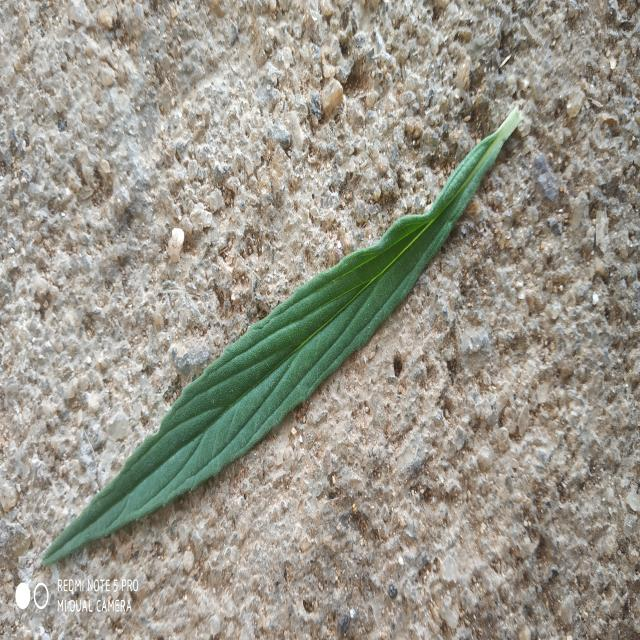defectedthambe: (42, 269, 338, 564)
thambe: (45, 109, 522, 564)
